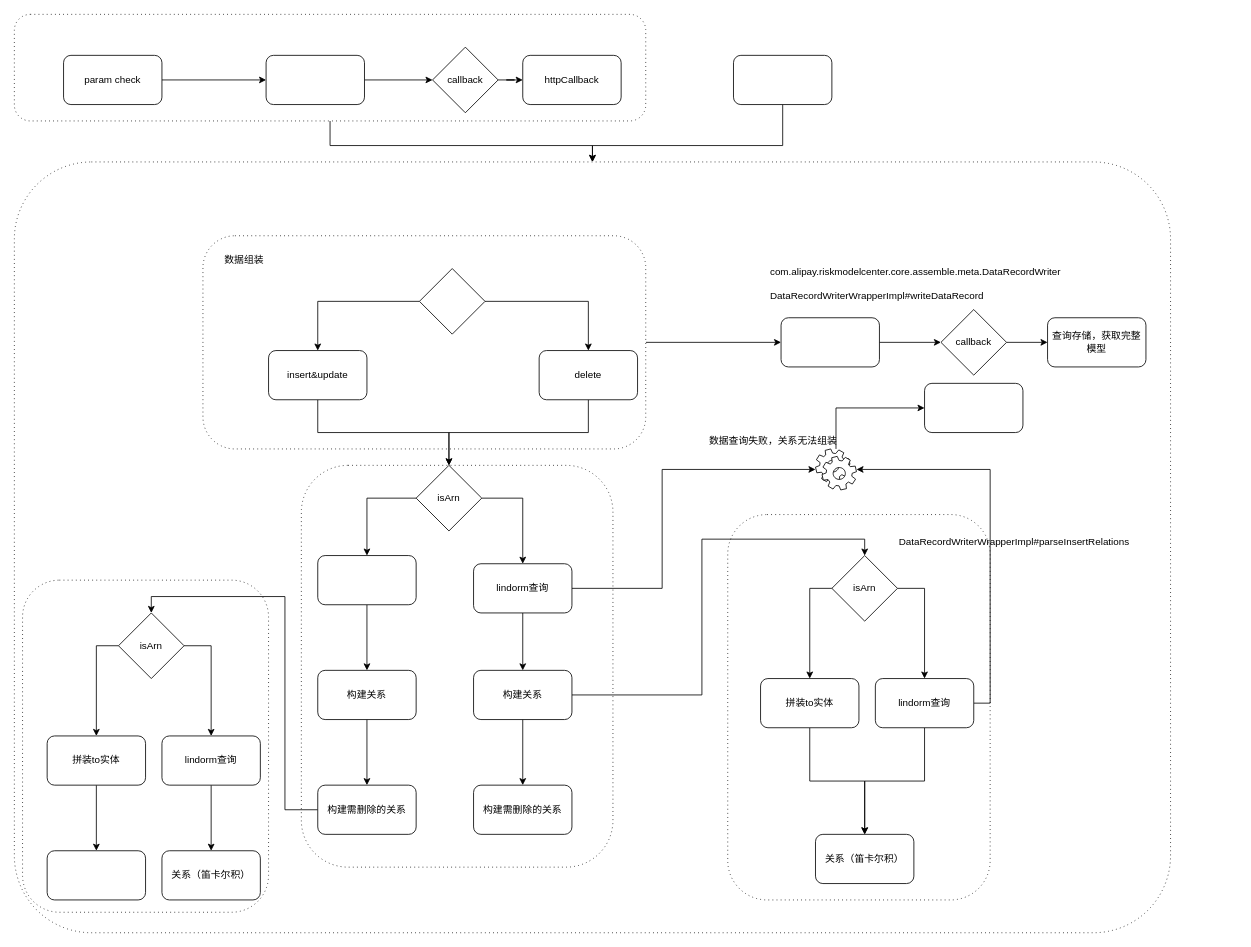
Some shapes in this 1251 by 947 pixel diagram are drawn without their labels. Here are the shapes that lost their labels. From the top down, the box of each, then its label:
(265, 55, 364, 105): wrapper
(733, 55, 832, 105): 延迟消息消费
(419, 268, 485, 334): op
(780, 317, 879, 367): writer(幂等性保证)
(924, 383, 1023, 433): 延迟消费消息
(317, 555, 416, 605): 拼装source实体
(46, 850, 146, 900): 拼装删除条件
